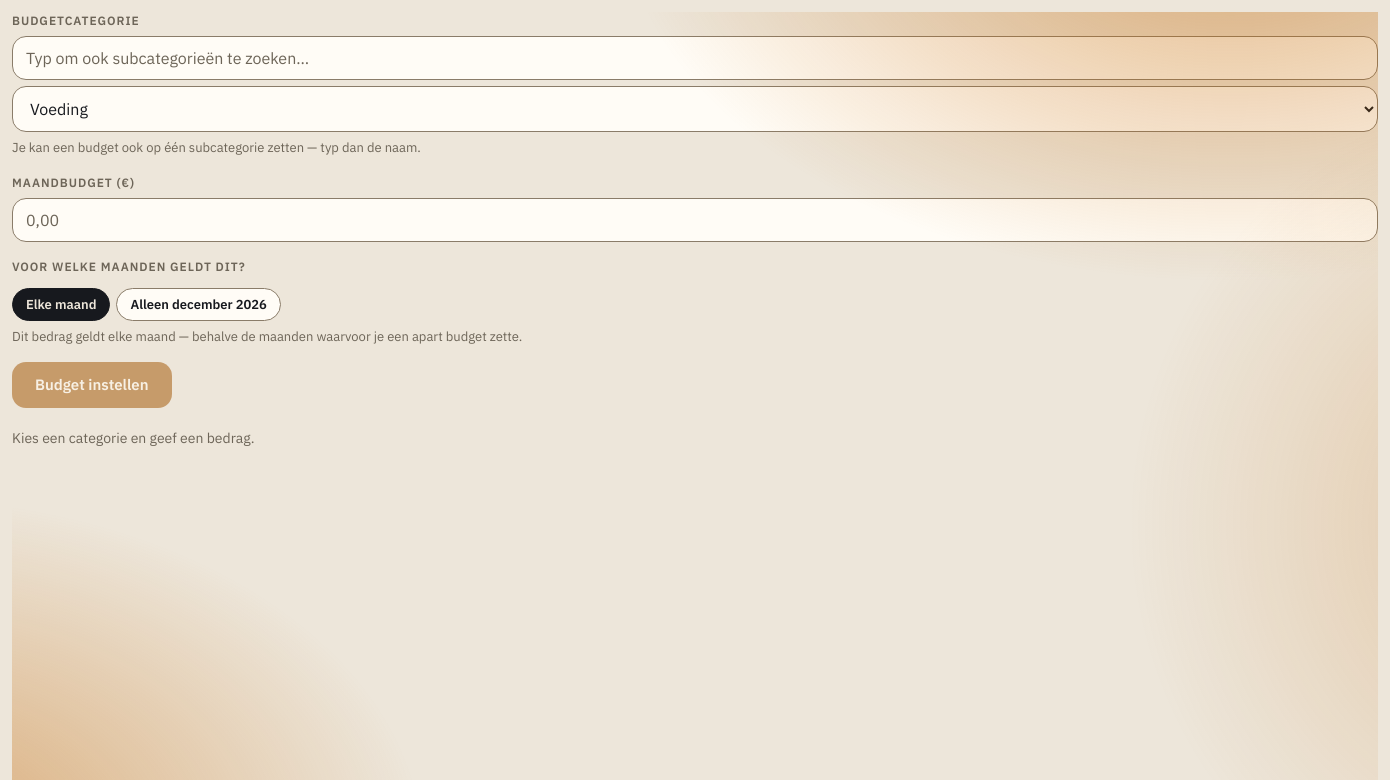
Test case: BudgetFormulier — elke maand of alleen deze › vult voor wat er al staat, zodat je ziet waarvan je afwijkt
The image size is (1390, 780).
Select "Voeding" in the dropdown labelled "Budgetcategorie" at (695, 109), box x1=12 y1=86 x2=1378 y2=132
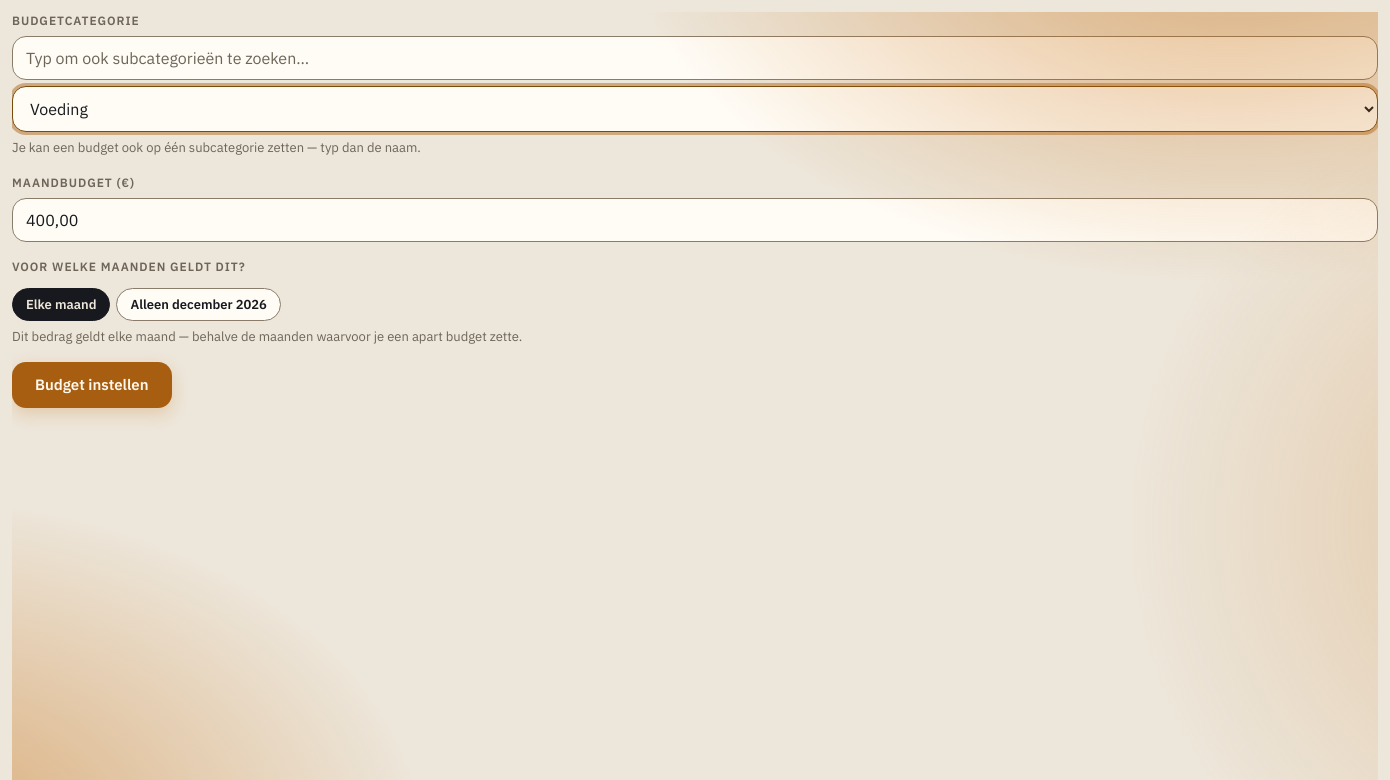
Expected: the field labelled "Maandbudget (€)" holds "400,00", x1=12 y1=198 x2=1378 y2=242
Click the button "Alleen december 2026".
click(199, 304)  # box x1=116 y1=288 x2=281 y2=320
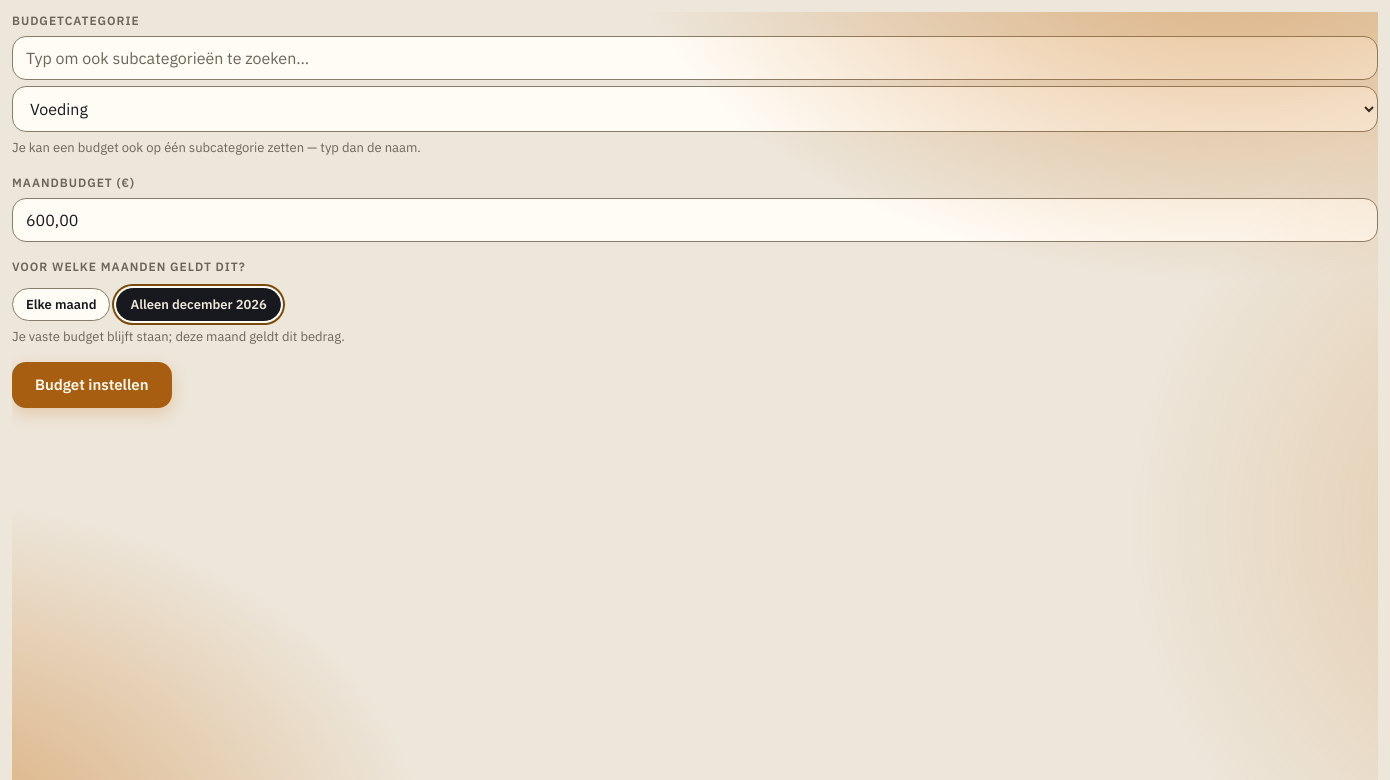
Expected: the field labelled "Maandbudget (€)" holds "600,00", x1=12 y1=198 x2=1378 y2=242
